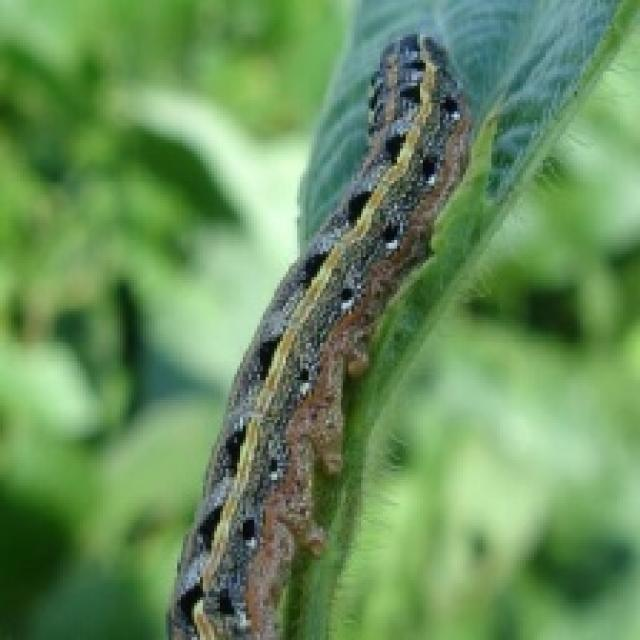Plaga: (138, 18, 484, 638)
